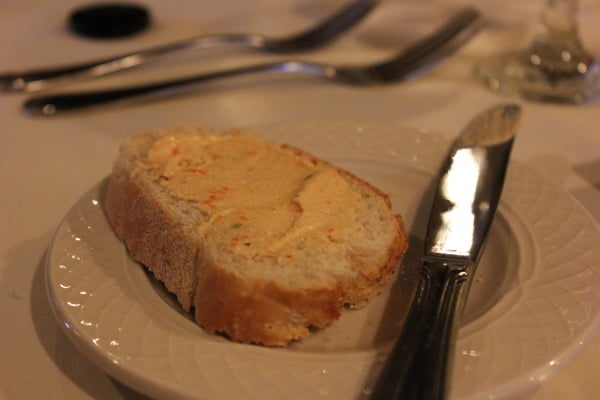burger: (363, 100, 524, 396)
sandwich: (365, 101, 523, 395)
